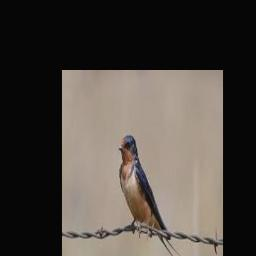Swallow: (118, 136, 180, 256)
